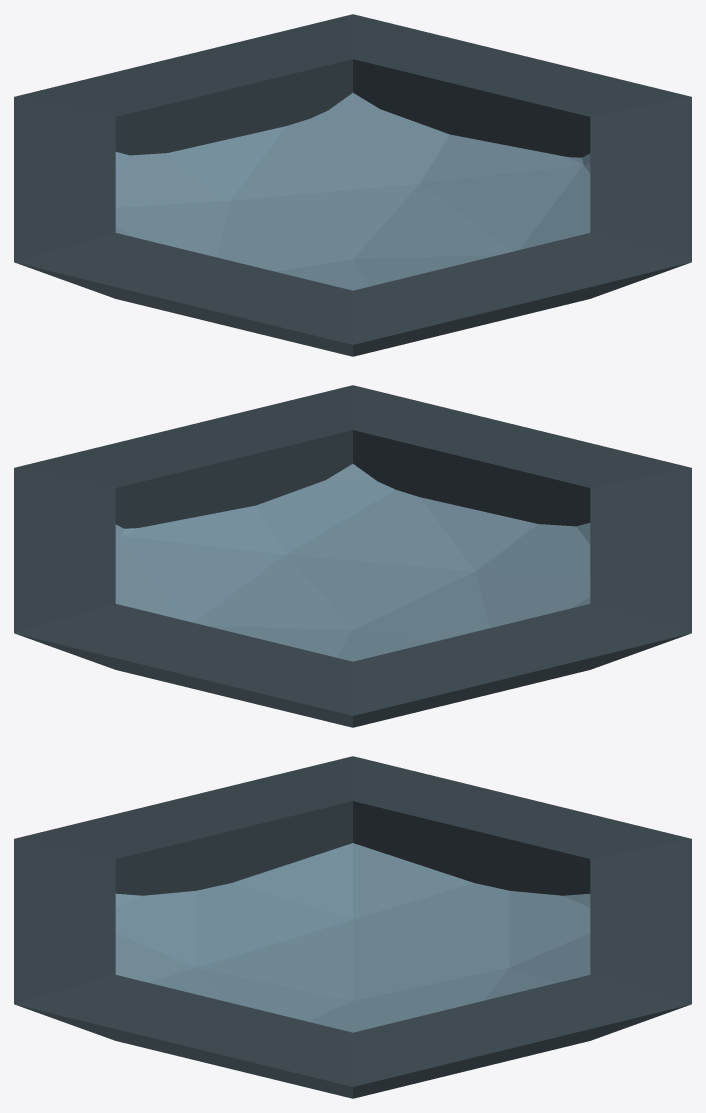
File: Lamp.fbx
3 renders of one model, top to bottom at view 1: azimuth 30°, elevation 25°; view 2: azimuth 150°, elevation 25°; view 3: azimuth 270°, elevation 25°, orthographic.
Parts seen in each view (by area): view 1: Case, Lamp; view 2: Case, Lamp; view 3: Case, Lamp.
Boxes of the visible parts, <box> form: Case: <box>14,14,691,356</box>; Lamp: <box>115,93,590,290</box>; Case: <box>14,385,691,727</box>; Lamp: <box>115,464,590,661</box>; Case: <box>14,756,691,1098</box>; Lamp: <box>115,843,590,1032</box>.
Size of the model in its own units: 250 by 29.65 by 217.
Materials: 2 (2 with a texture image).
